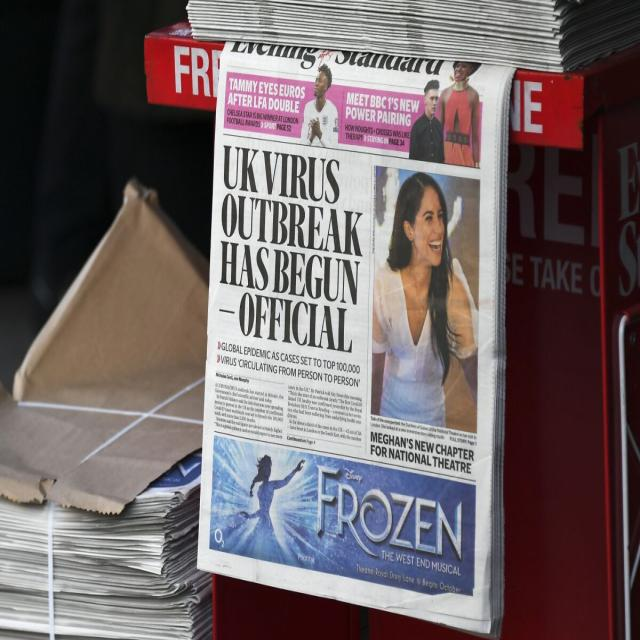newspaper: (202, 48, 504, 638), (0, 450, 205, 640), (180, 0, 634, 68)
